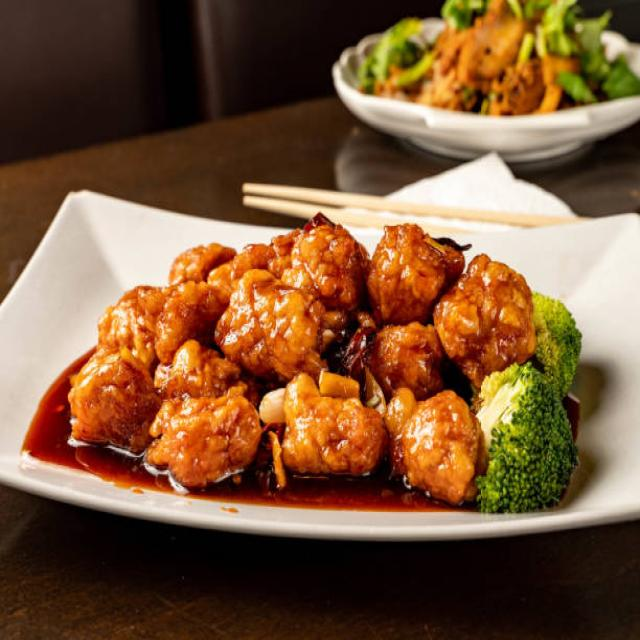Frango: (47, 213, 541, 508)
